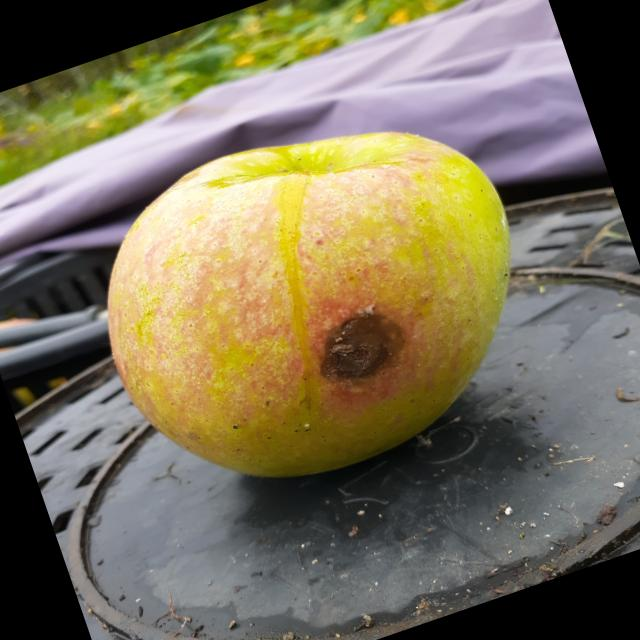rotten: (52, 69, 578, 537)
